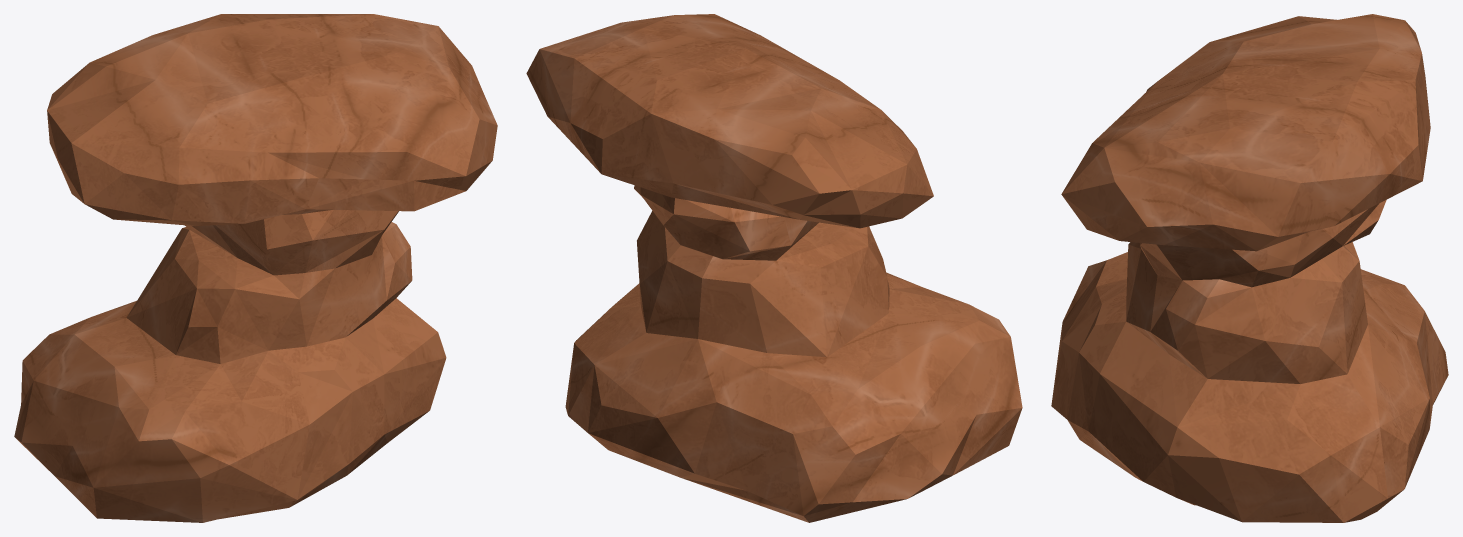
File: ROK0110015.fbx
The picture shows the model from 3 angles, left to right: view 1: azimuth 30°, elevation 25°; view 2: azimuth 150°, elevation 25°; view 3: azimuth 270°, elevation 25°; orthographic projection. The views are drawn at different scales.
Parts seen in each view (by area): view 1: smROK0110015; view 2: smROK0110015; view 3: smROK0110015.
Boxes of the visible parts, box(x1,y1,x2,y2) form: smROK0110015: box(14, 14, 497, 522); smROK0110015: box(526, 14, 1022, 522); smROK0110015: box(1051, 14, 1448, 522).
Bounding box in the file's own units: 203 × 166 × 146.
1 material, 1 textured.
